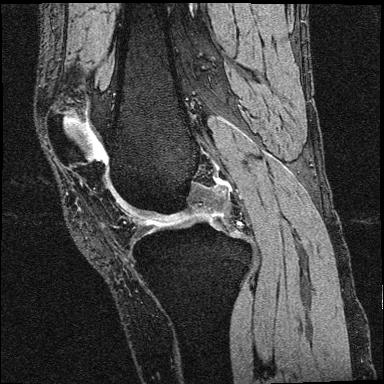SagKneeJointArea: (46, 89, 254, 266)
